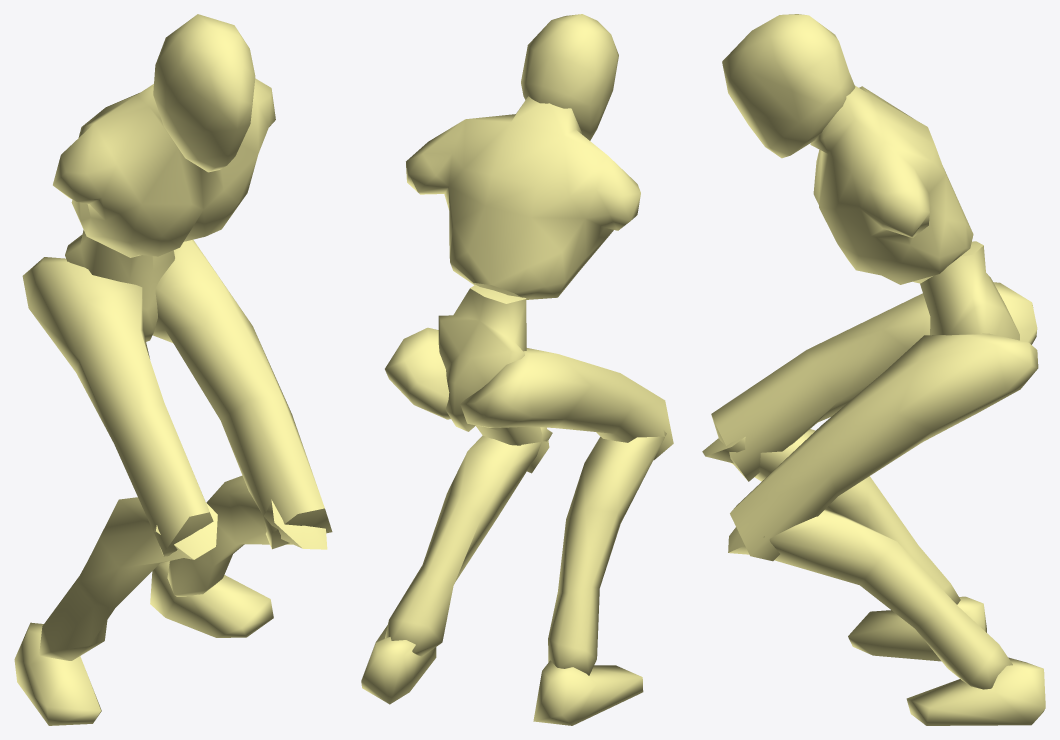
Rendered from filth61.obj.
3 views of the same model, side by side, from view 1: azimuth 30°, elevation 25°; view 2: azimuth 150°, elevation 25°; view 3: azimuth 270°, elevation 25° (orthographic). The views are drawn at different scales.
Visible parts, largest first — view 1: Melee_Husk; view 2: Melee_Husk; view 3: Melee_Husk.
Part boxes in pixels (x1,y1,x2,y2): Melee_Husk: (14, 14, 332, 725); Melee_Husk: (361, 14, 673, 725); Melee_Husk: (702, 14, 1045, 725).
Size of the model in its own units: 22.16 by 58.47 by 27.14.
